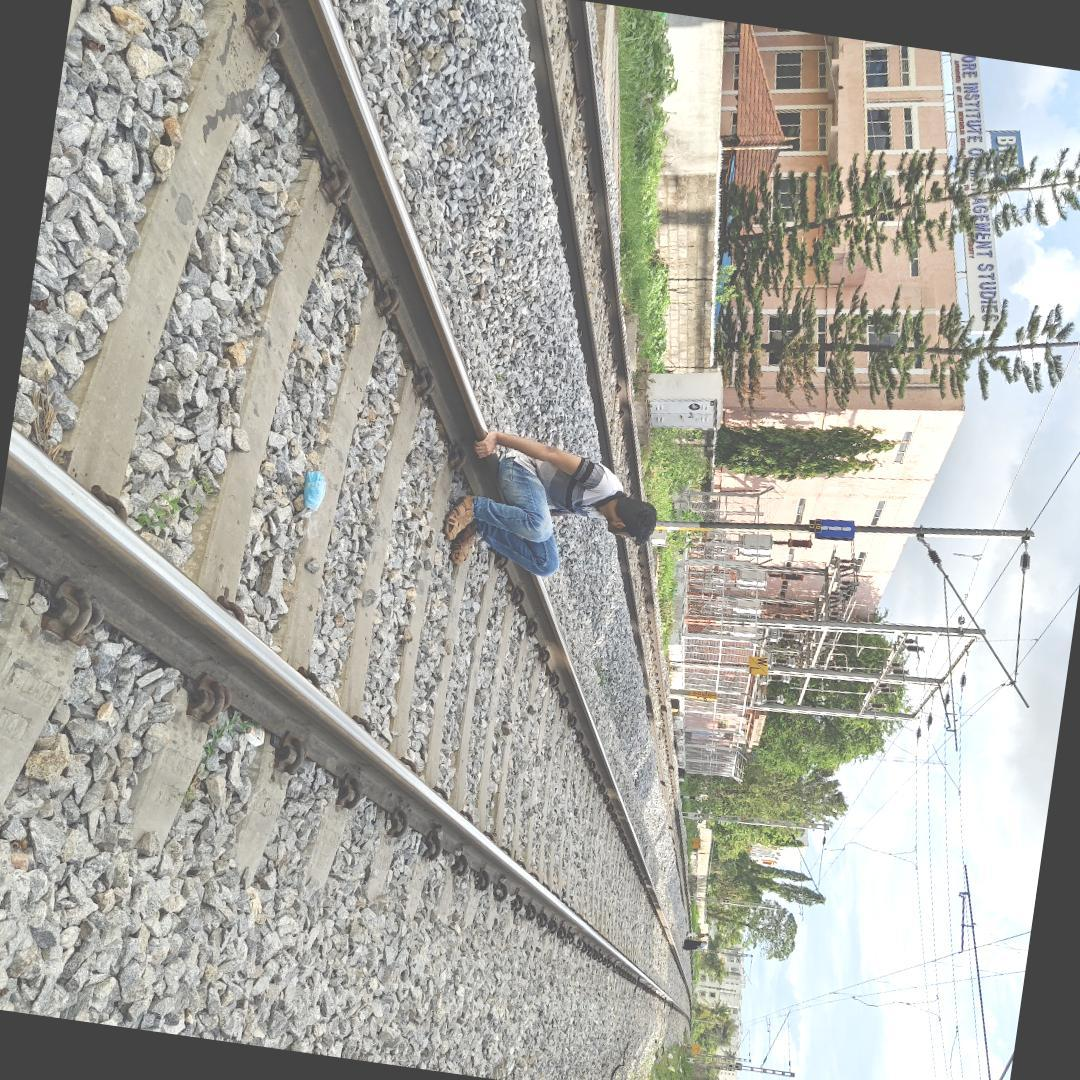sitting: (429, 412, 679, 611)
